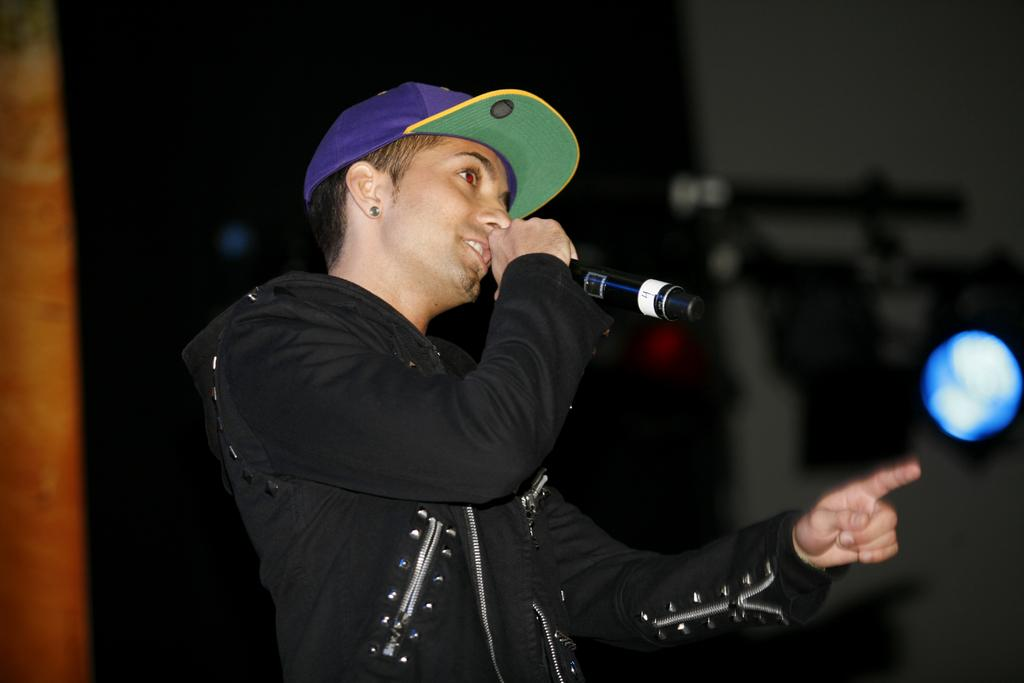Hat: (304, 82, 582, 221)
